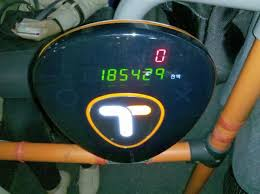terminal: (25, 16, 220, 168)
